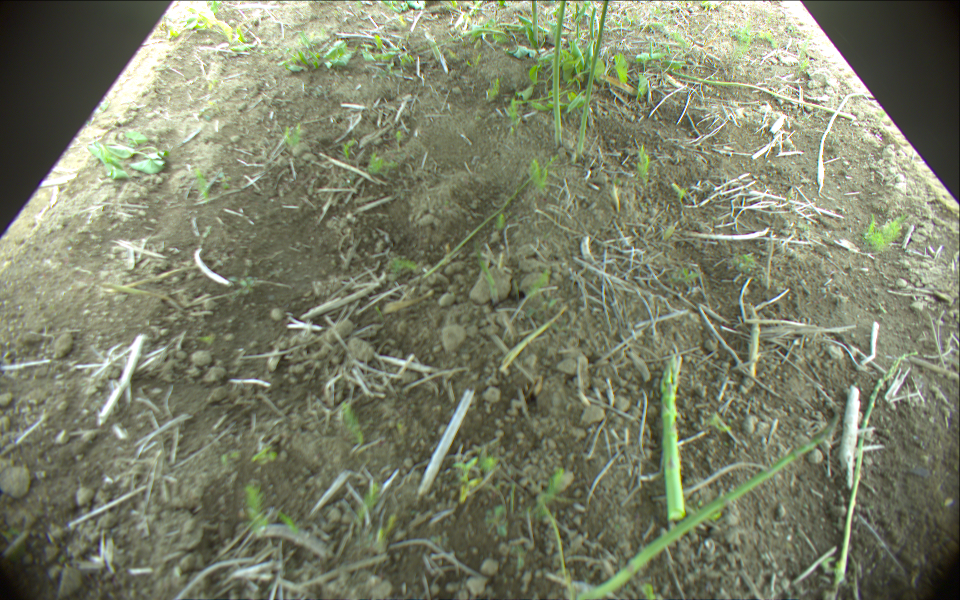aspa: (573, 430, 828, 600), (820, 353, 918, 600), (420, 150, 566, 280), (675, 72, 856, 121), (576, 1, 610, 153), (817, 90, 867, 192), (657, 355, 686, 518), (552, 1, 567, 147), (531, 1, 539, 45), (589, 7, 597, 42)
